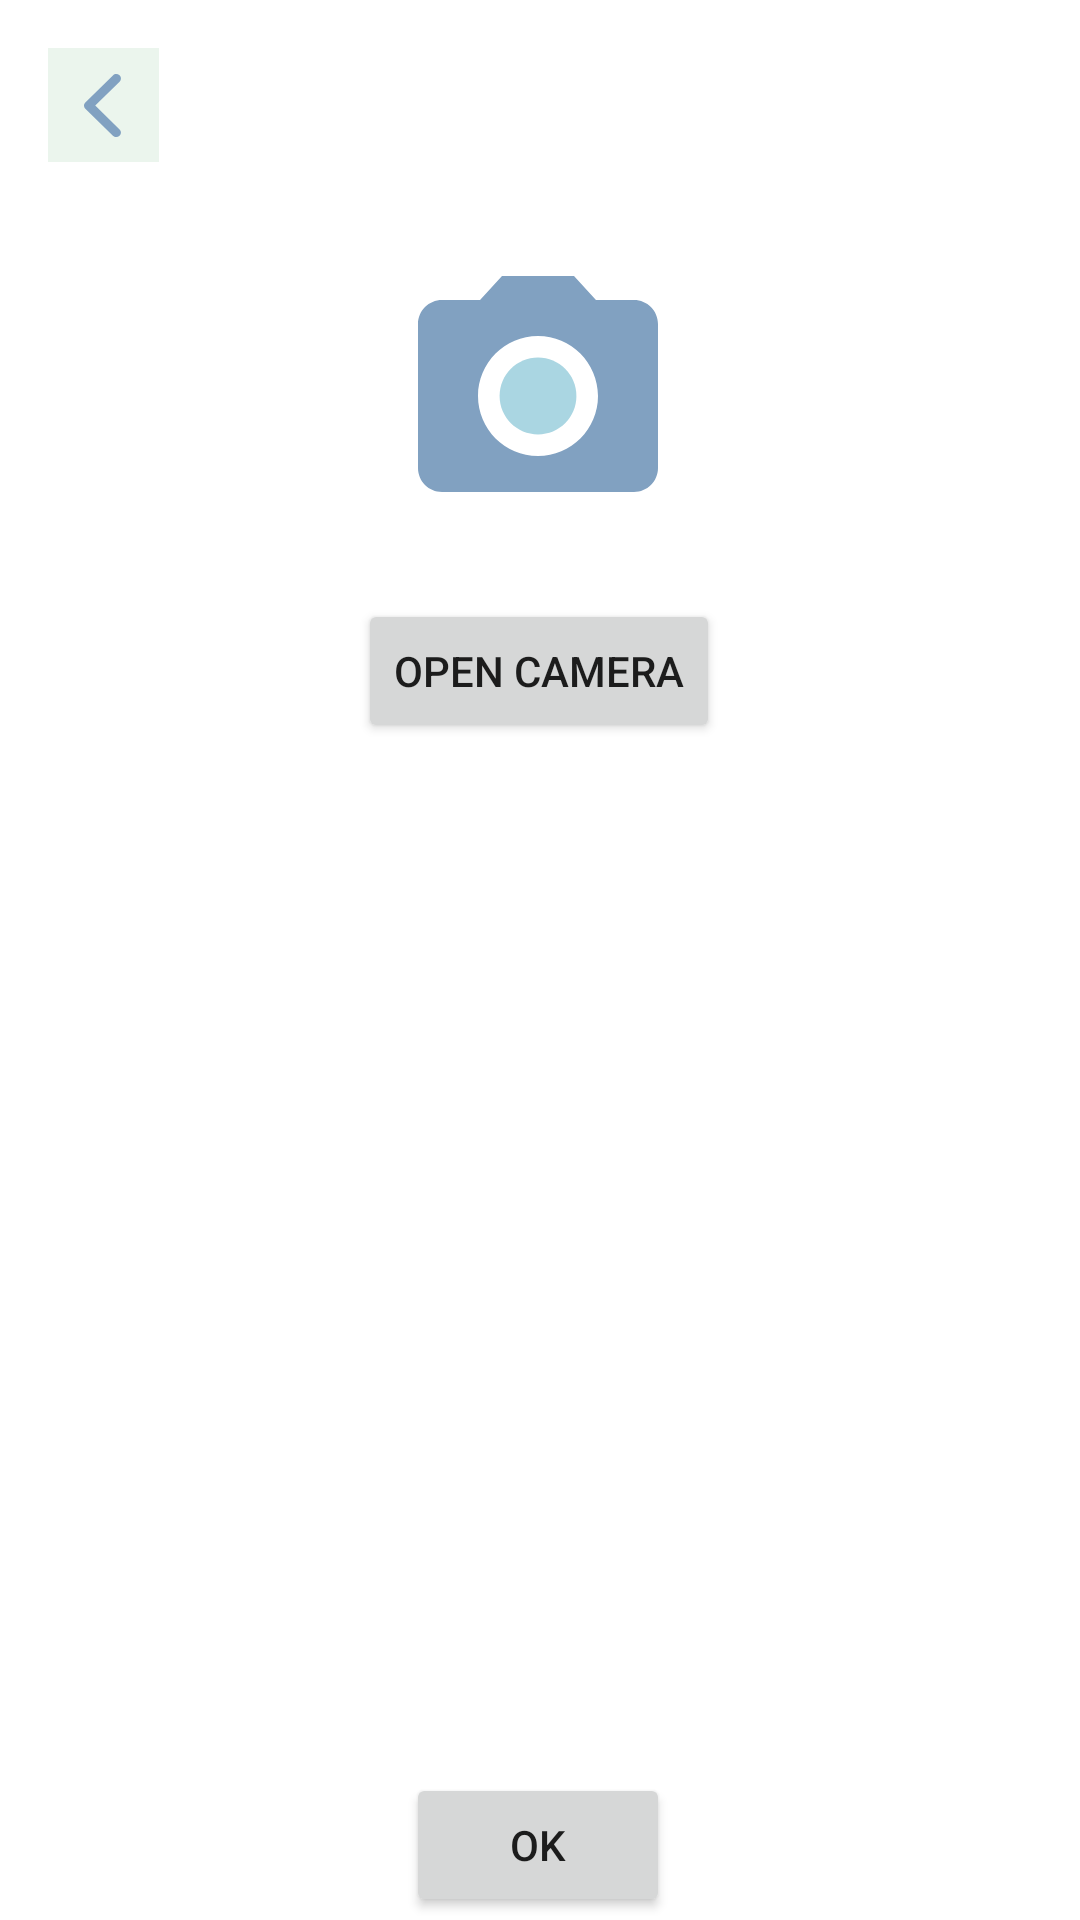

Named icons in this screenshot (1080px x 1920px) and their bounding boxes, (x1, y1, x2, y2):
goback: (48, 48, 159, 162)
